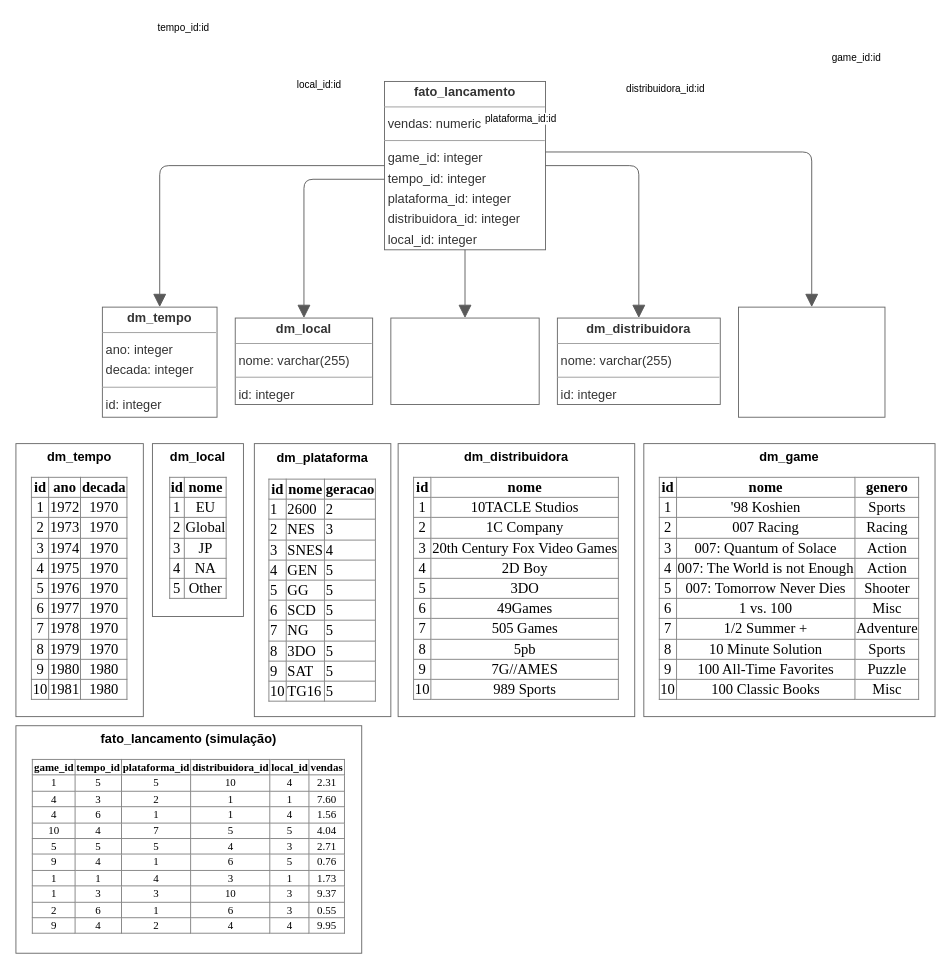
The diagram is 951 pixels wide and 969 high, and some of its shapes have lost their labels. Each missing label, with the centre of its shape:
"dm_game nome: varchar(255) genero: varchar(255) id: integer" goes at (811,361).
"dm_plataforma nome: varchar(255) geracao: integer id: integer" goes at (464,360).
